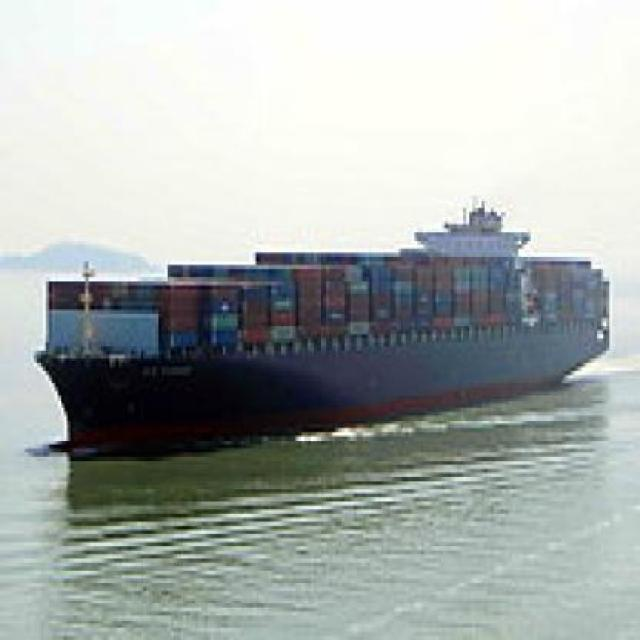container: (25, 197, 623, 466)
